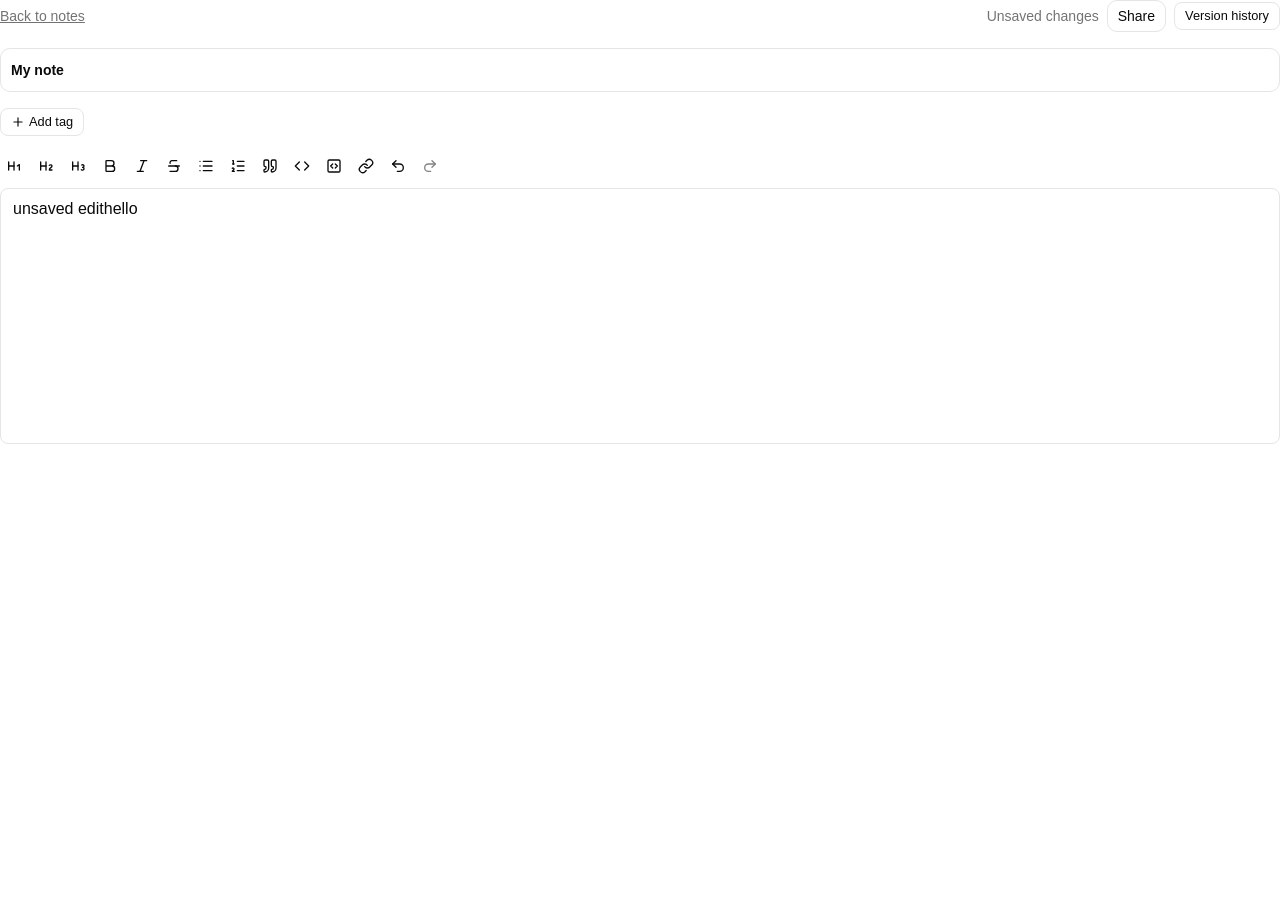
Test: version history in the editor › S-AB1015-02: restore flushes pending edits first then updates the editor and list
Expected: the field showing "My note" is shown, [0,48,1279,92]
Step 1. Click the button "Version history" → (1227, 16), box [1174,2,1279,30]
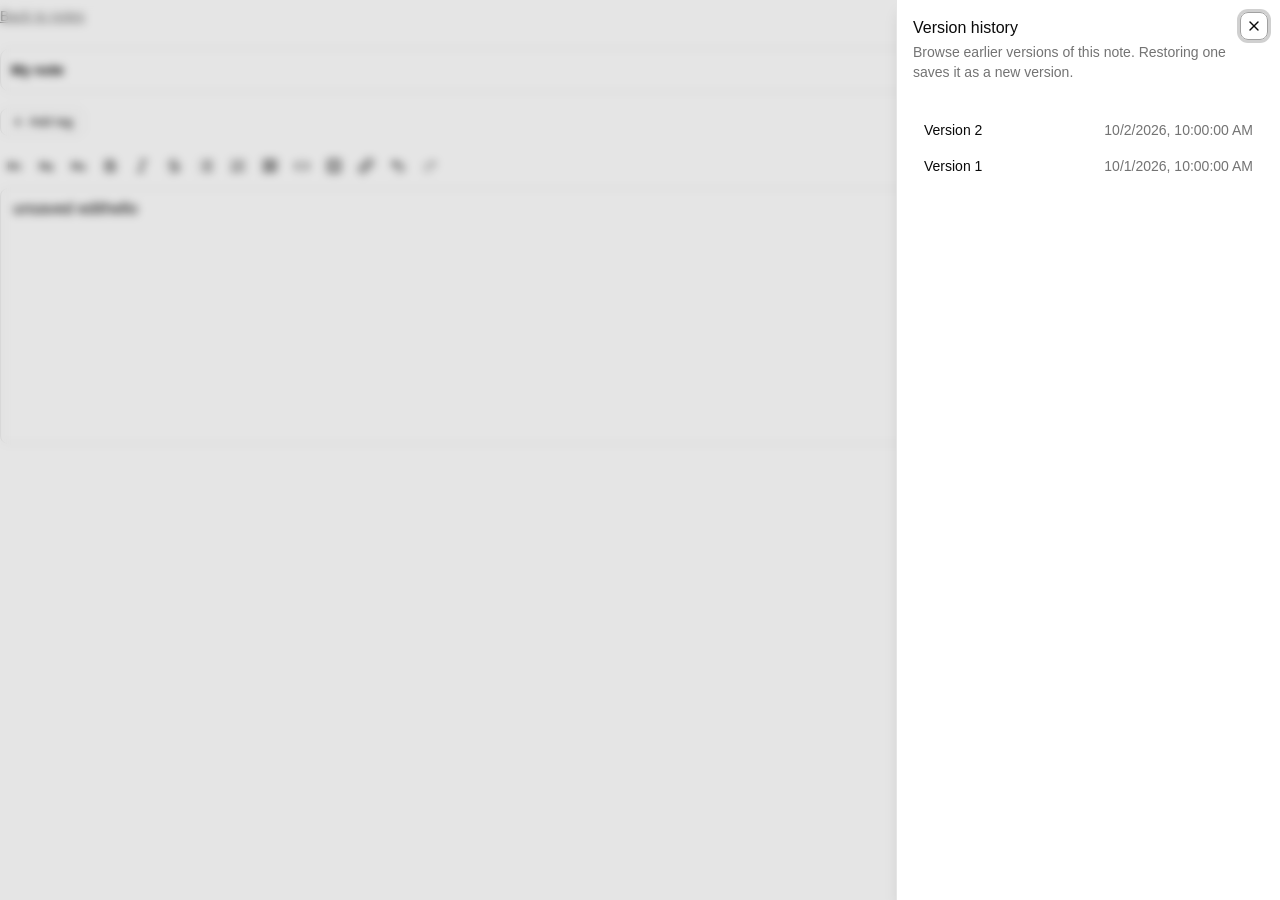
Step 2. Click the button "Version 1 10/1/2026, 10:00:00 AM" → (949, 166), box [913,150,1264,182]
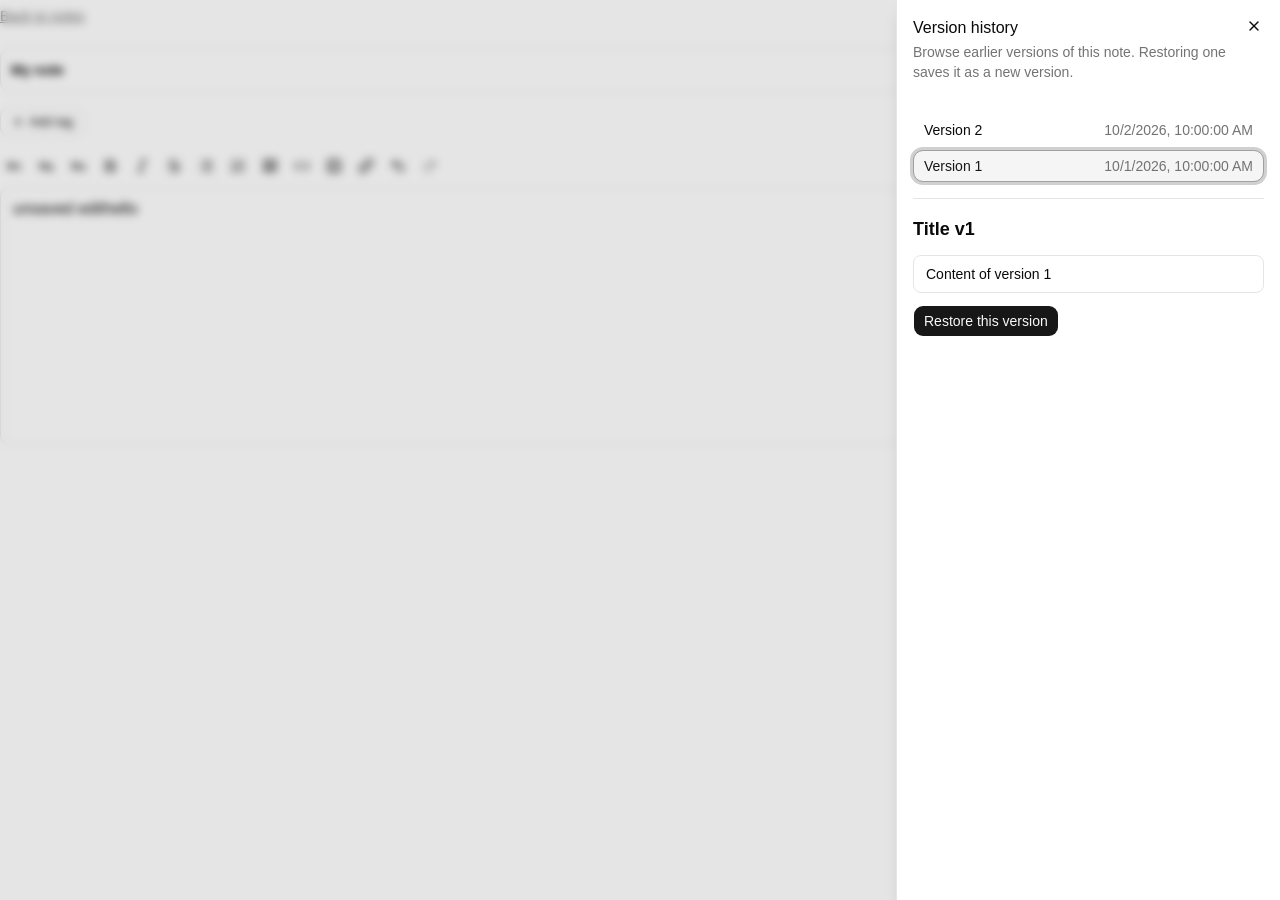
Step 3. Click the button "Restore this version" → (986, 321), box [913,305,1059,337]
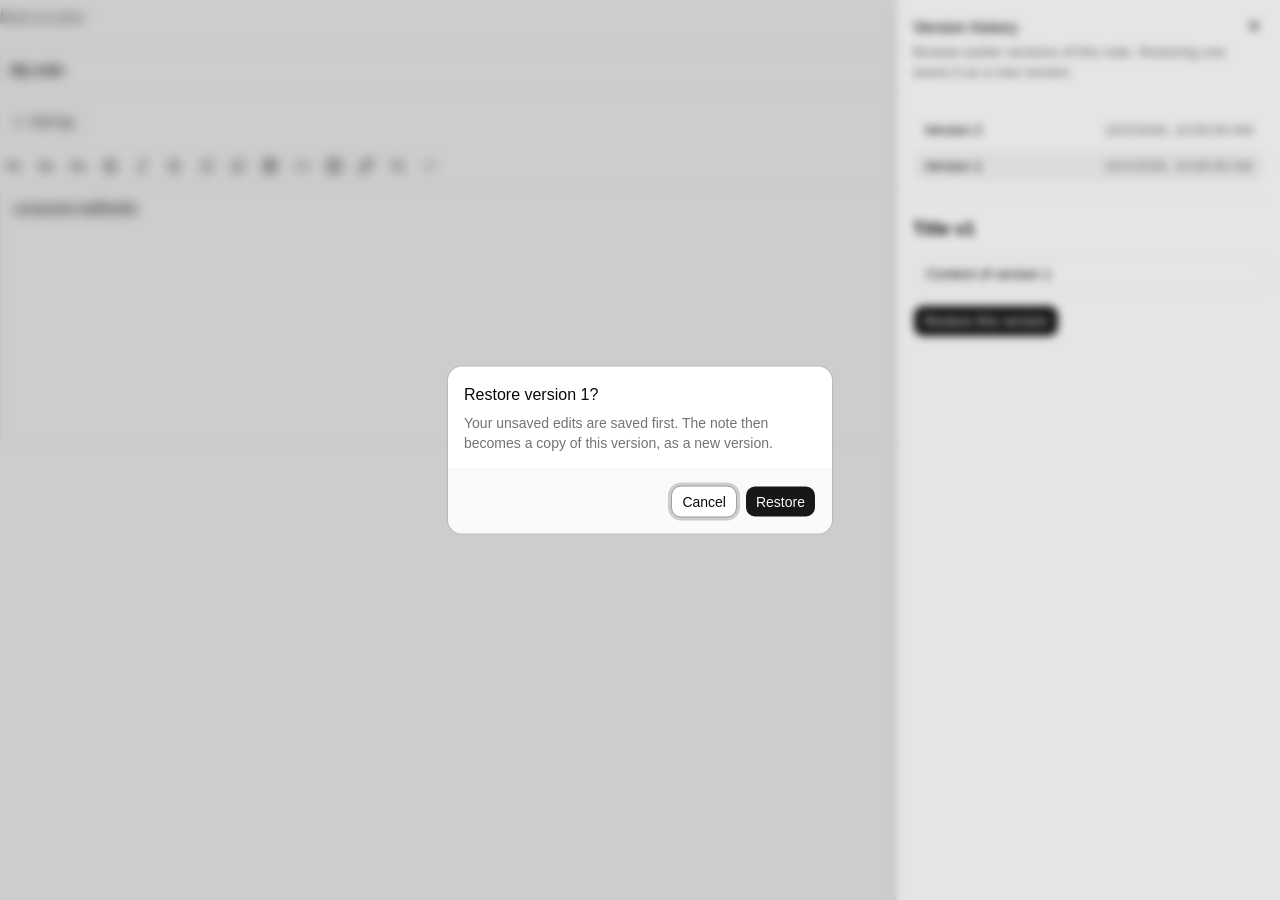
Step 4. Click the button "Restore" → (780, 502), box [745,486,816,518]
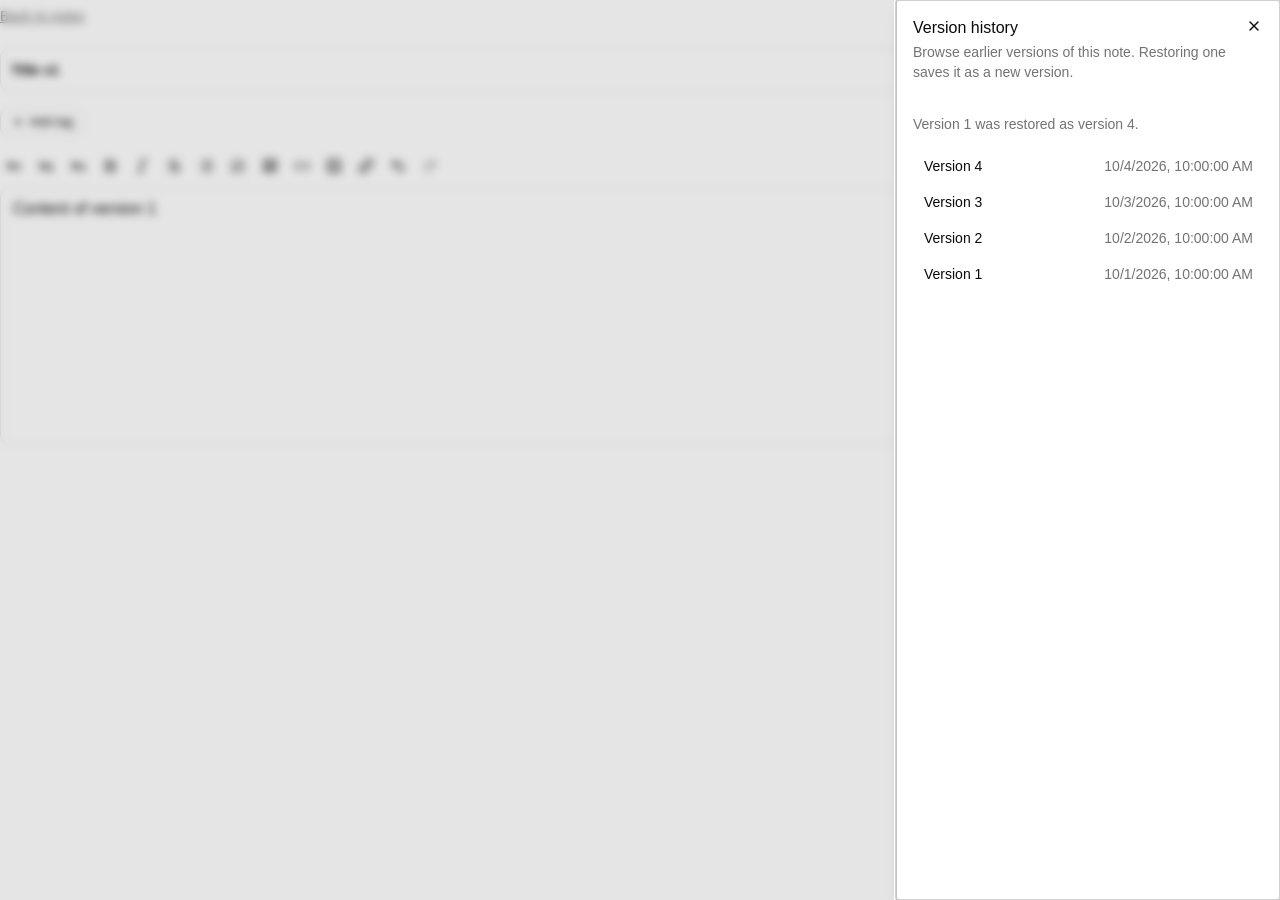
Now the text "Version 1 was restored as version 4." is shown, box [913,116,1139,132]
Now the field named "title" holds "Title v1", box [0,48,1279,92]
Now the list item "Version 4 10/4/2026, 10:00:00 AM" is shown, box [913,150,1264,182]
